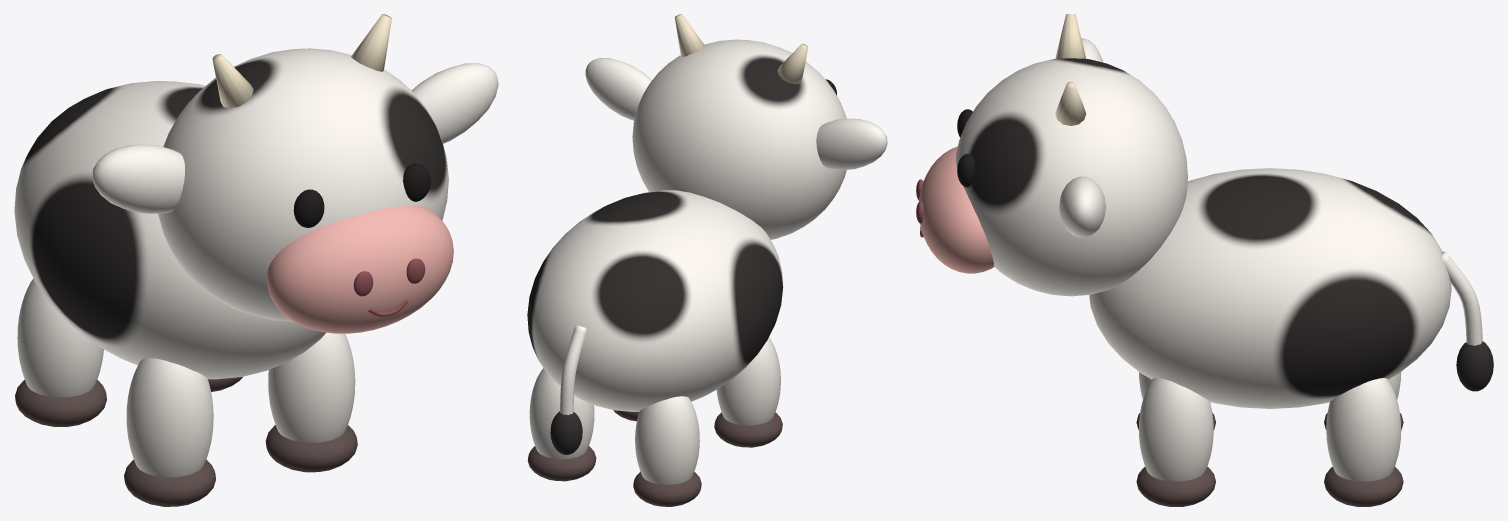
Rendered from cow.glb.
3 renders of one model, left to right at view 1: azimuth 30°, elevation 25°; view 2: azimuth 150°, elevation 25°; view 3: azimuth 270°, elevation 25°, orthographic. The views are drawn at different scales.
Visible parts, largest first — view 1: Cow_Coat, Cow_Muzzle, Cow_Leg_FL, Cow_Leg_FR, Cow_Leg_BL, Cow_Ear_L, Cow_Ear_R, Cow_Hoof_FR, Cow_Hoof_BL, Cow_Hoof_FL, Cow_Horn_L, Cow_Horn_R (+2 smaller); view 2: Cow_Coat, Cow_Leg_BL, Cow_Leg_FL, Cow_Ear_L, Cow_Leg_BR, Cow_Ear_R, Cow_Hoof_FL, Cow_Hoof_BR, Cow_Hoof_BL, Cow_Tail, Cow_TailTuft, Cow_Horn_L (+1 smaller); view 3: Cow_Coat, Cow_Leg_BR, Cow_Leg_FR, Cow_Muzzle, Cow_Ear_R, Cow_Hoof_BR, Cow_Hoof_FR, Cow_Tail, Cow_TailTuft, Cow_Horn_L, Cow_Horn_R.
Boxes of the visible parts, x1=… form: Cow_Coat: x1=14, y1=48, x2=448, y2=379; Cow_Muzzle: x1=266, y1=205, x2=453, y2=333; Cow_Leg_FL: x1=126, y1=358, x2=213, y2=477; Cow_Leg_FR: x1=268, y1=332, x2=355, y2=442; Cow_Leg_BL: x1=17, y1=278, x2=103, y2=397; Cow_Ear_L: x1=92, y1=144, x2=184, y2=213; Cow_Ear_R: x1=411, y1=63, x2=498, y2=143; Cow_Hoof_FR: x1=265, y1=425, x2=357, y2=472; Cow_Hoof_BL: x1=15, y1=379, x2=106, y2=426; Cow_Hoof_FL: x1=124, y1=459, x2=215, y2=506; Cow_Horn_L: x1=212, y1=54, x2=253, y2=108; Cow_Horn_R: x1=351, y1=14, x2=391, y2=71; Cow_Coat: x1=527, y1=39, x2=846, y2=411; Cow_Leg_BL: x1=635, y1=396, x2=699, y2=484; Cow_Leg_FL: x1=716, y1=337, x2=780, y2=425; Cow_Ear_L: x1=816, y1=118, x2=887, y2=169; Cow_Leg_BR: x1=529, y1=368, x2=594, y2=459; Cow_Ear_R: x1=585, y1=58, x2=651, y2=120; Cow_Hoof_FL: x1=714, y1=412, x2=782, y2=447; Cow_Hoof_BR: x1=527, y1=446, x2=596, y2=481; Cow_Hoof_BL: x1=633, y1=471, x2=701, y2=506; Cow_Tail: x1=560, y1=325, x2=586, y2=414; Cow_TailTuft: x1=550, y1=411, x2=582, y2=454; Cow_Horn_L: x1=777, y1=43, x2=808, y2=84; Cow_Coat: x1=956, y1=58, x2=1451, y2=408; Cow_Leg_BR: x1=1326, y1=378, x2=1401, y2=481; Cow_Leg_FR: x1=1138, y1=378, x2=1213, y2=481; Cow_Muzzle: x1=919, y1=146, x2=994, y2=273; Cow_Ear_R: x1=1059, y1=176, x2=1105, y2=237; Cow_Hoof_BR: x1=1324, y1=466, x2=1403, y2=506; Cow_Hoof_FR: x1=1136, y1=466, x2=1215, y2=506; Cow_Tail: x1=1441, y1=251, x2=1482, y2=345; Cow_TailTuft: x1=1456, y1=341, x2=1493, y2=391; Cow_Horn_L: x1=1055, y1=14, x2=1086, y2=58; Cow_Horn_R: x1=1055, y1=81, x2=1086, y2=125.
Size of the model in its own units: 0.3405 by 0.3988 by 0.493.
Materials: 9 (1 with a texture image).
